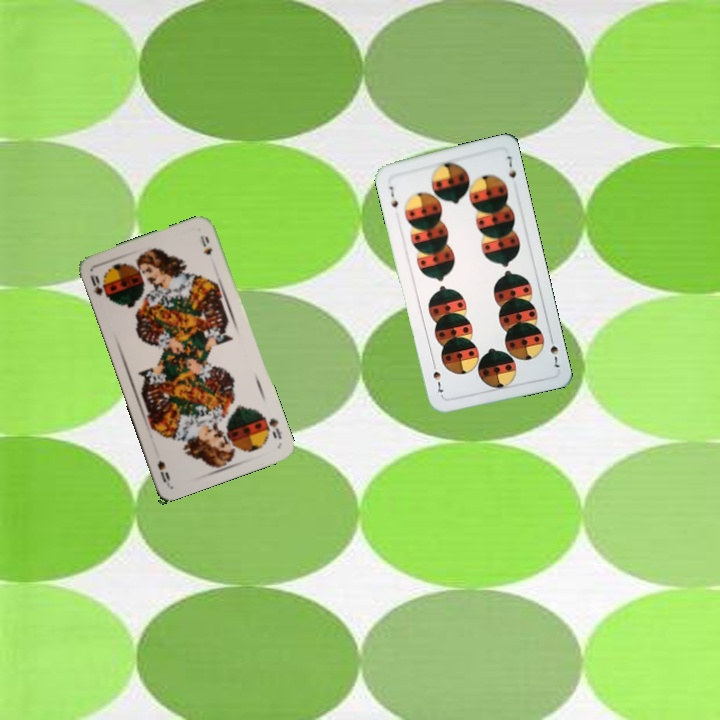S7: (546, 332, 562, 370), (385, 182, 401, 210)
SO: (260, 412, 285, 442), (86, 271, 110, 300)
